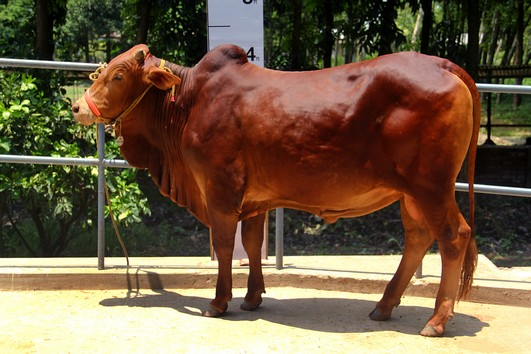cow: (65, 40, 479, 338)
